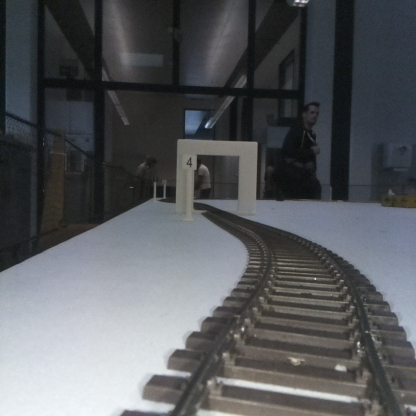white-info-4: (182, 155, 196, 218)
